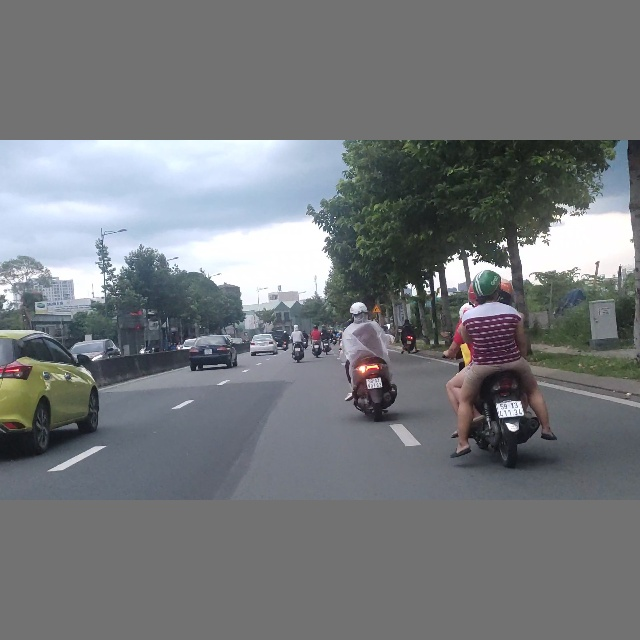W.201b: (372, 303, 382, 313)
